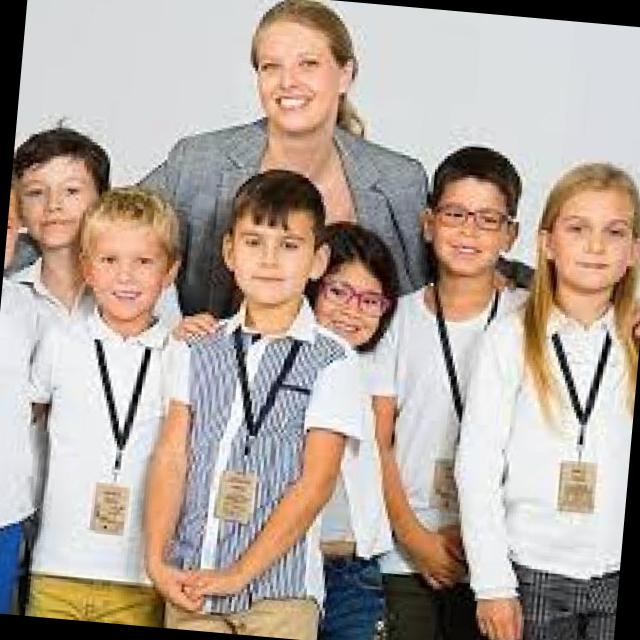id_card: (534, 294, 622, 521), (212, 313, 295, 524), (414, 282, 498, 488), (78, 327, 156, 536)
